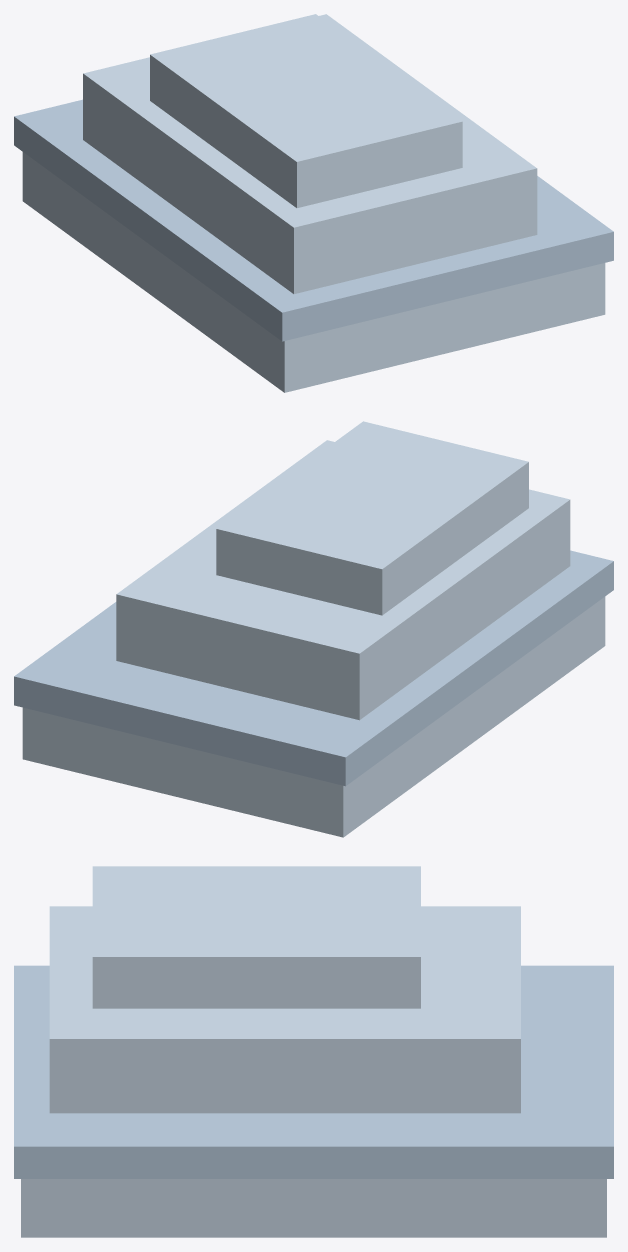
File: toalha_turbante.glb
3 views of the same model, one above another, from view 1: azimuth 30°, elevation 25°; view 2: azimuth 150°, elevation 25°; view 3: azimuth 270°, elevation 25° (orthographic). The views are drawn at different scales.
Visible parts, largest first — view 1: toalha_turbante; view 2: toalha_turbante; view 3: toalha_turbante.
Part boxes in pixels (x1=…): toalha_turbante: x1=14, y1=14, x2=613, y2=392; toalha_turbante: x1=14, y1=421, x2=613, y2=837; toalha_turbante: x1=14, y1=866, x2=613, y2=1237.
Size of the model in its own units: 0.6 by 0.34 by 0.84.
